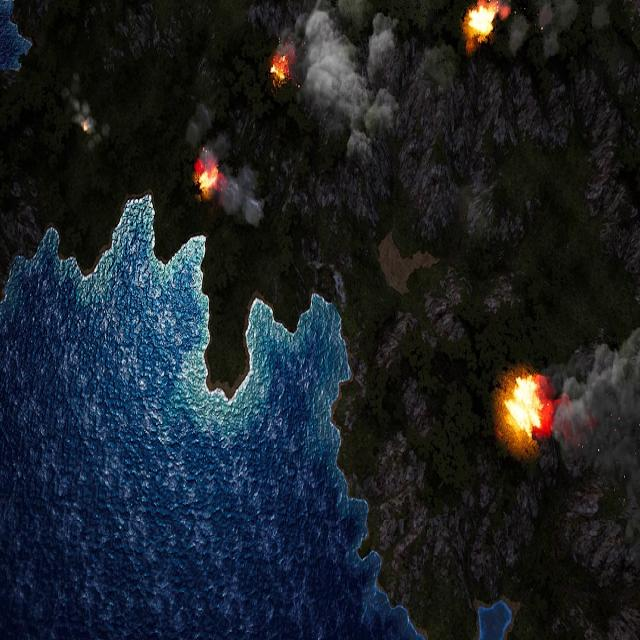fire: (504, 376, 542, 440), (464, 0, 495, 41), (195, 160, 223, 198), (270, 52, 292, 88), (81, 120, 90, 133)
smoke: (290, 3, 466, 168), (548, 326, 640, 586), (190, 100, 269, 225), (63, 72, 106, 151)
